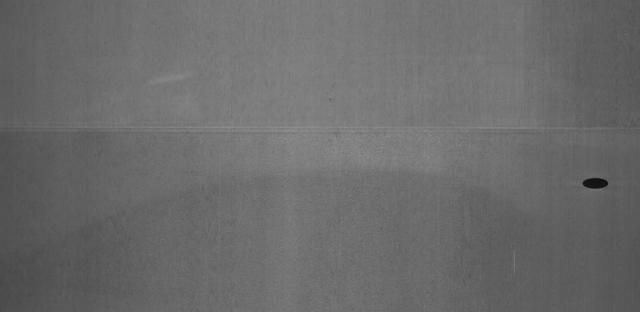punching_hole: (579, 176, 612, 194)
welding_line: (0, 118, 638, 140)
